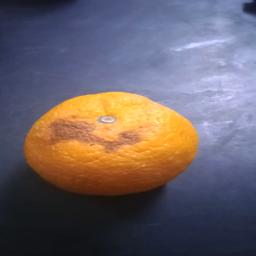Orange Unripe: (20, 78, 202, 206)
